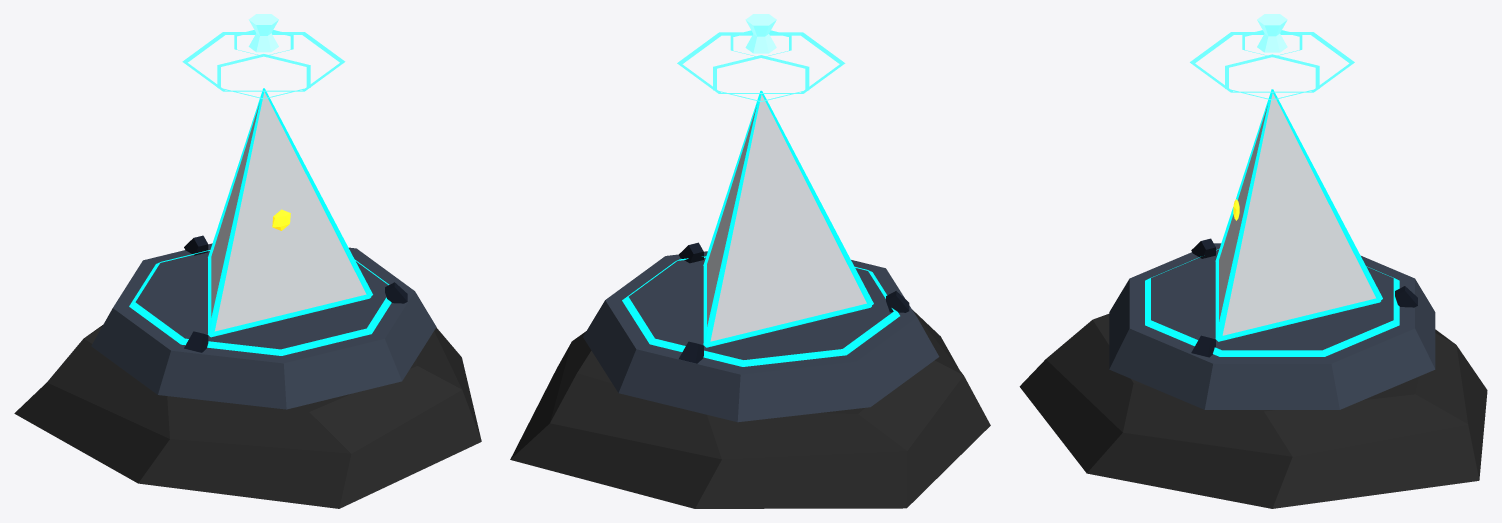
The model's file is fansipan_predator.glb.
3 renders of one model, left to right at view 1: azimuth 30°, elevation 25°; view 2: azimuth 150°, elevation 25°; view 3: azimuth 270°, elevation 25°, orthographic. The views are drawn at different scales.
Visible parts, largest first — view 1: Fansipan_Rock_Base, Fansipan_Granite_Platform, Fansipan_Chrome_Pinnacle, Fansipan_Platform_Circuit_LED, Fansipan_Neon_Rib_1, Fansipan_Hologram_Ring_1, Fansipan_Neon_Rib_2, Fansipan_Hologram_3143M_Marker, Fansipan_Neon_BaseTrim_1, Fansipan_Hologram_Ring_0; view 2: Fansipan_Rock_Base, Fansipan_Granite_Platform, Fansipan_Chrome_Pinnacle, Fansipan_Platform_Circuit_LED, Fansipan_Neon_Rib_0, Fansipan_Neon_Rib_1, Fansipan_Hologram_Ring_1, Fansipan_Hologram_3143M_Marker, Fansipan_Neon_BaseTrim_0, Fansipan_Hologram_Ring_0; view 3: Fansipan_Rock_Base, Fansipan_Granite_Platform, Fansipan_Chrome_Pinnacle, Fansipan_Platform_Circuit_LED, Fansipan_Neon_Rib_2, Fansipan_Hologram_Ring_1, Fansipan_Neon_Rib_0, Fansipan_Hologram_3143M_Marker, Fansipan_Neon_BaseTrim_2, Fansipan_Hologram_Ring_0.
Boxes of the visible parts, <box> form: Fansipan_Rock_Base: <box>14,325,481,508</box>; Fansipan_Granite_Platform: <box>91,243,436,409</box>; Fansipan_Chrome_Pinnacle: <box>211,92,366,331</box>; Fansipan_Platform_Circuit_LED: <box>129,250,391,355</box>; Fansipan_Neon_Rib_1: <box>208,88,264,335</box>; Fansipan_Hologram_Ring_1: <box>182,32,345,91</box>; Fansipan_Neon_Rib_2: <box>264,88,372,297</box>; Fansipan_Hologram_3143M_Marker: <box>248,14,278,52</box>; Fansipan_Neon_BaseTrim_1: <box>210,294,370,337</box>; Fansipan_Hologram_Ring_0: <box>217,54,310,99</box>; Fansipan_Rock_Base: <box>510,309,990,508</box>; Fansipan_Granite_Platform: <box>583,251,939,422</box>; Fansipan_Chrome_Pinnacle: <box>707,94,866,341</box>; Fansipan_Platform_Circuit_LED: <box>622,256,899,366</box>; Fansipan_Neon_Rib_0: <box>703,91,761,345</box>; Fansipan_Neon_Rib_1: <box>761,91,873,306</box>; Fansipan_Hologram_Ring_1: <box>677,32,845,93</box>; Fansipan_Hologram_3143M_Marker: <box>745,14,776,53</box>; Fansipan_Neon_BaseTrim_0: <box>706,303,871,347</box>; Fansipan_Hologram_Ring_0: <box>713,55,809,101</box>; Fansipan_Rock_Base: <box>1019,314,1487,508</box>; Fansipan_Granite_Platform: <box>1109,243,1435,409</box>; Fansipan_Chrome_Pinnacle: <box>1219,93,1375,335</box>; Fansipan_Platform_Circuit_LED: <box>1145,249,1399,356</box>; Fansipan_Neon_Rib_2: <box>1215,89,1273,339</box>; Fansipan_Hologram_Ring_1: <box>1190,32,1354,92</box>; Fansipan_Neon_Rib_0: <box>1272,89,1382,301</box>; Fansipan_Hologram_3143M_Marker: <box>1257,14,1287,52</box>; Fansipan_Neon_BaseTrim_2: <box>1218,298,1380,341</box>; Fansipan_Hologram_Ring_0: <box>1225,54,1319,100</box>.
Bounding box in the file's own units: 8.34 × 7.82 × 8.48.
